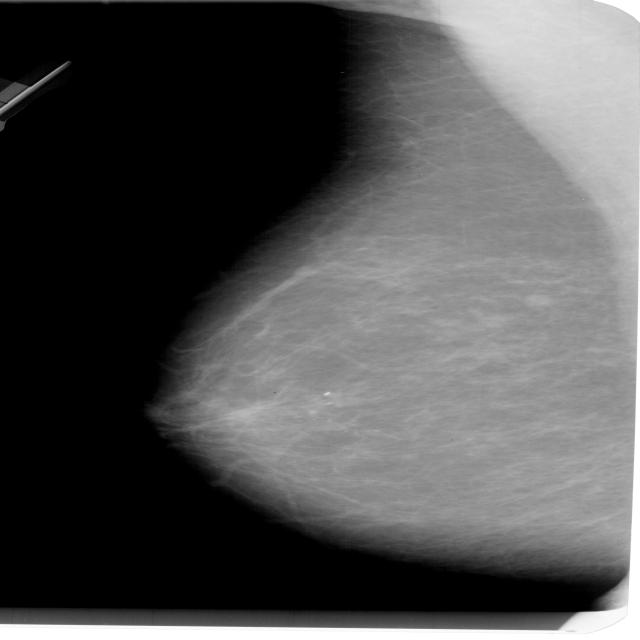normal: (123, 42, 640, 566)
